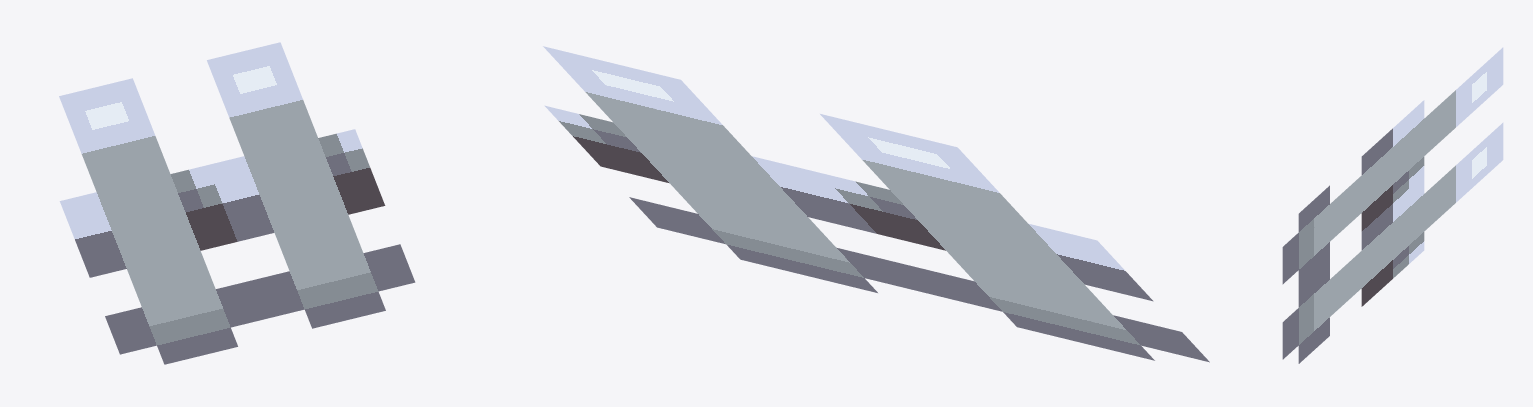
The picture shows the model from 3 angles, left to right: view 1: azimuth 30°, elevation 25°; view 2: azimuth 150°, elevation 25°; view 3: azimuth 270°, elevation 25°; orthographic projection. The views are drawn at different scales.
Size of the model in its own units: 1 by 0.707 by 0.707.
Materials: 1 (1 with a texture image).
